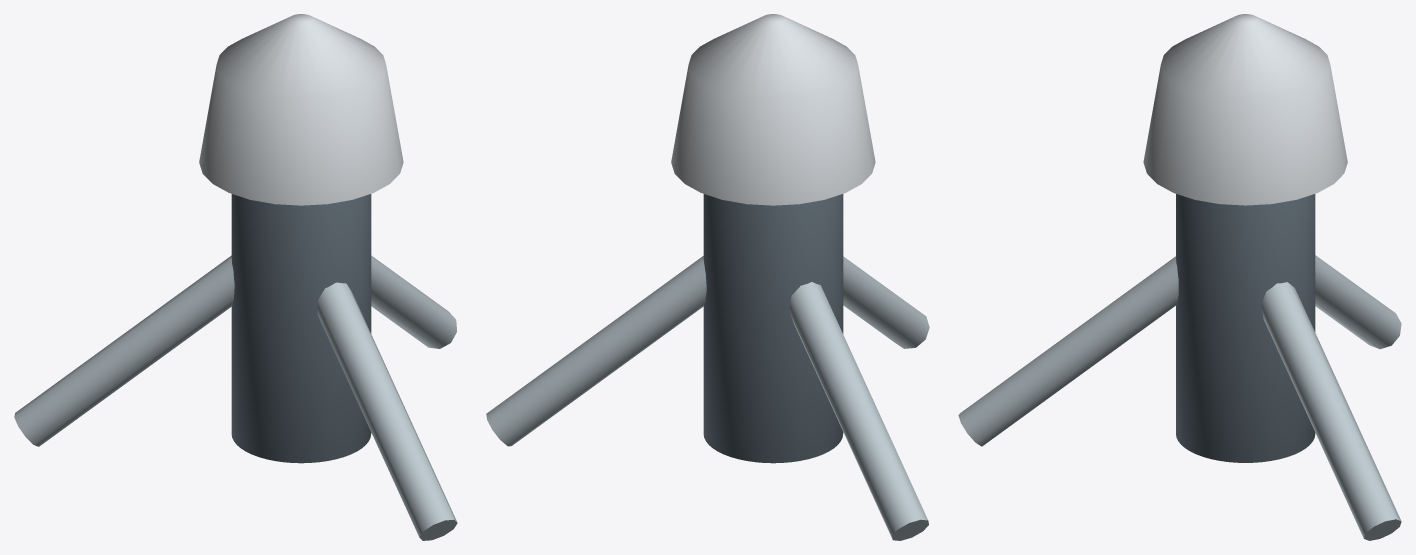
The model's file is apollo_cm.docking_tunnel.probe.glb.
3 renders of one model, left to right at view 1: azimuth 30°, elevation 25°; view 2: azimuth 150°, elevation 25°; view 3: azimuth 270°, elevation 25°, orthographic.
Visible parts, largest first — view 1: apollo_cm.docking_tunnel.probe.mesh; view 2: apollo_cm.docking_tunnel.probe.mesh; view 3: apollo_cm.docking_tunnel.probe.mesh.
Part boxes in pixels (left/top/right/bottom): apollo_cm.docking_tunnel.probe.mesh: left=14, top=14, right=457, bottom=540; apollo_cm.docking_tunnel.probe.mesh: left=486, top=14, right=929, bottom=540; apollo_cm.docking_tunnel.probe.mesh: left=958, top=14, right=1401, bottom=540.
Bounding box in the file's own units: 0.6083 × 0.5645 × 0.5333.
